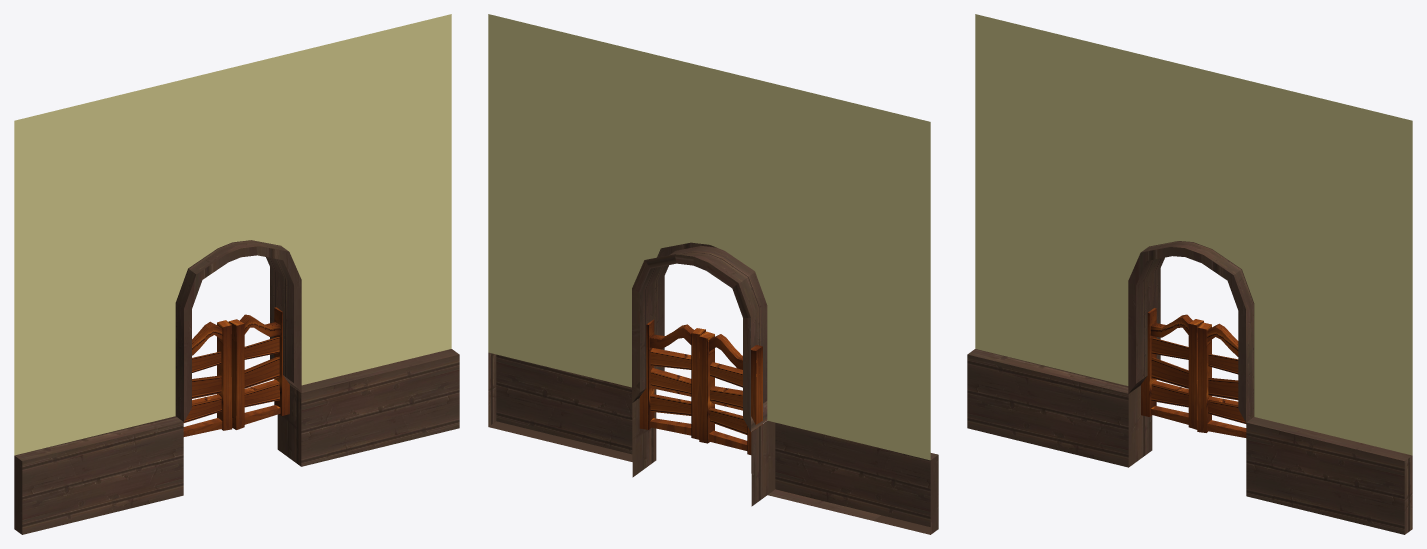
The model's file is ANIMACIONPUERTA.fbx.
The picture shows the model from 3 angles, left to right: view 1: azimuth 30°, elevation 25°; view 2: azimuth 150°, elevation 25°; view 3: azimuth 330°, elevation 25°; orthographic projection.
Visible parts, largest first — view 1: pared puerta, Cube.051, Cube.001; view 2: pared puerta, Cube.001, Cube.051; view 3: pared puerta, Cube.001, Cube.051.
Boxes of the visible parts, x1,y1,x2,y2 form: pared puerta: [14, 14, 459, 534]; Cube.051: [228, 307, 289, 429]; Cube.001: [183, 320, 232, 436]; pared puerta: [488, 14, 938, 534]; Cube.001: [699, 331, 762, 454]; Cube.051: [639, 319, 705, 439]; pared puerta: [967, 14, 1412, 534]; Cube.001: [1141, 308, 1203, 429]; Cube.051: [1197, 322, 1246, 437].
Bounding box in the file's own units: 489 × 436 × 46.91.
